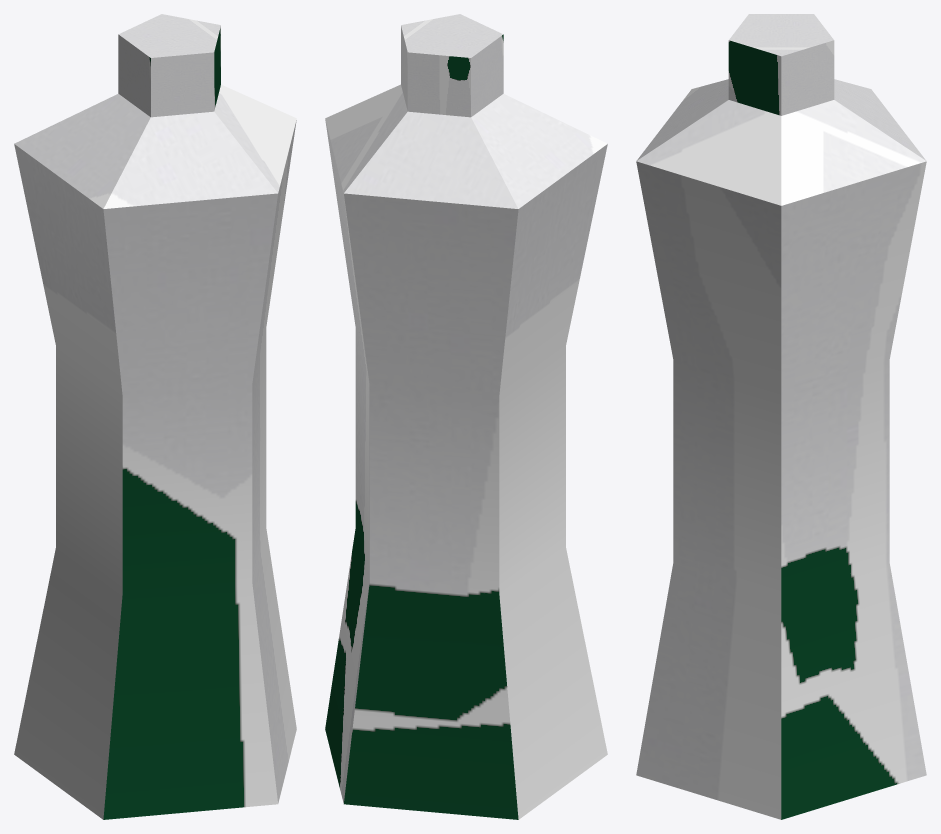
The model's file is plastic_bottle_a.fbx.
The picture shows the model from 3 angles, left to right: view 1: azimuth 30°, elevation 25°; view 2: azimuth 150°, elevation 25°; view 3: azimuth 270°, elevation 25°; orthographic projection.
Parts seen in each view (by area): view 1: pCylinder20; view 2: pCylinder20; view 3: pCylinder20.
Boxes of the visible parts, x1,y1,x2,y2 form: pCylinder20: (14,14,296,819); pCylinder20: (325,14,607,819); pCylinder20: (636,14,926,819).
Bounding box in the file's own units: 1.47 × 4.27 × 1.55.
